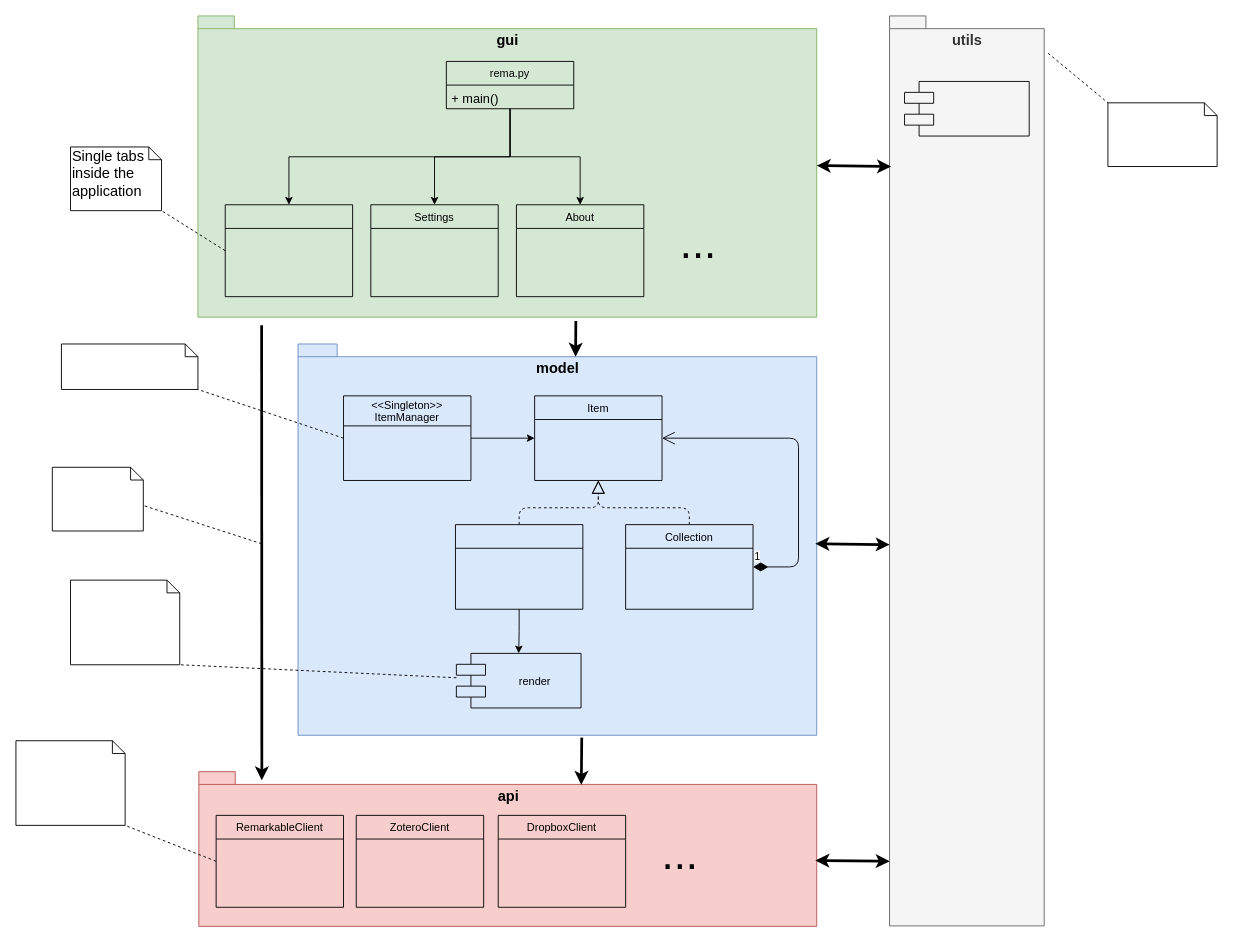
Image size: 1233x943. Some labels were removed from this diagram. Each missing label, with the centre of its shape:
config: point 966,108
Cross cutting layer: point 1162,134
Document: point 519,566
FileExplorer: point 288,250
Interfaces to other systems e.g. the remarkable cloud: point 70,782
Manage document tree (get, add, del.): point 129,366
Rendering of annotations for pdf, notebooks etc.: point 125,622
Subscribe to login events etc.: point 97,498
